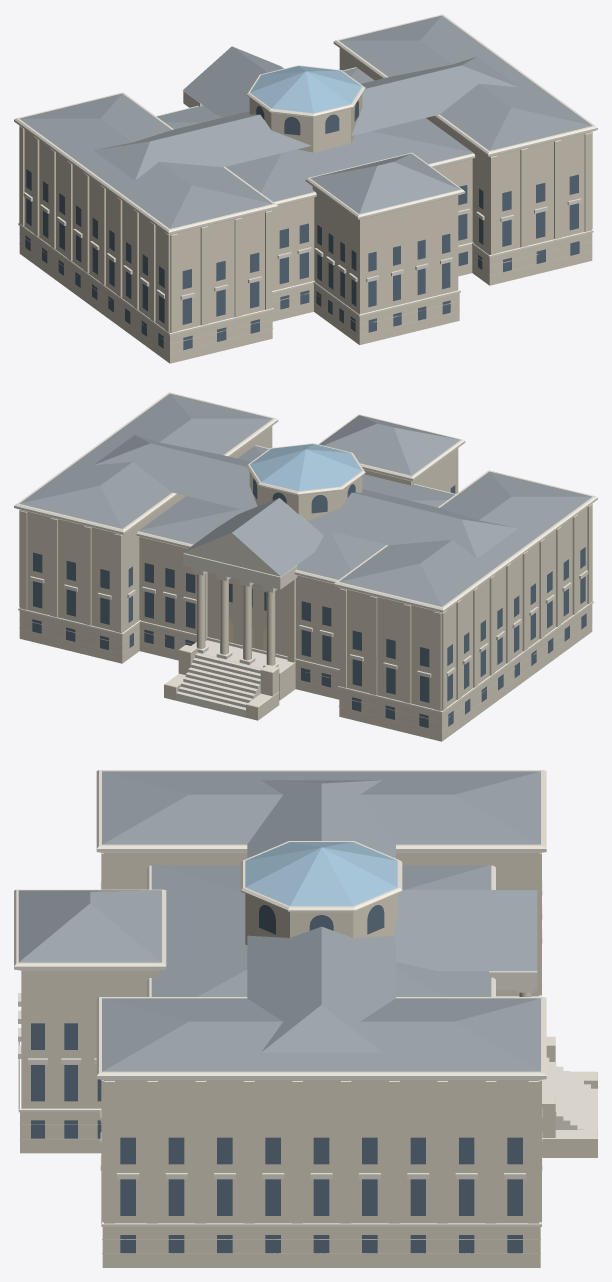
Rendered from nyc-tweed-courthouse.glb.
3 renders of one model, top to bottom at view 1: azimuth 30°, elevation 25°; view 2: azimuth 150°, elevation 25°; view 3: azimuth 270°, elevation 25°, orthographic. The views are drawn at different scales.
Parts seen in each view (by area): view 1: Tweed Courthouse; view 2: Tweed Courthouse; view 3: Tweed Courthouse.
Part boxes in pixels (left/top/right/bottom): Tweed Courthouse: left=14, top=14, right=597, bottom=363; Tweed Courthouse: left=14, top=392, right=597, bottom=741; Tweed Courthouse: left=14, top=770, right=597, bottom=1267.
Size of the model in its own units: 78.6 by 33.3 by 63.6.
